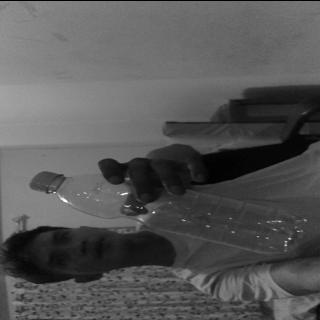plastic_bottles: (26, 170, 312, 256)
